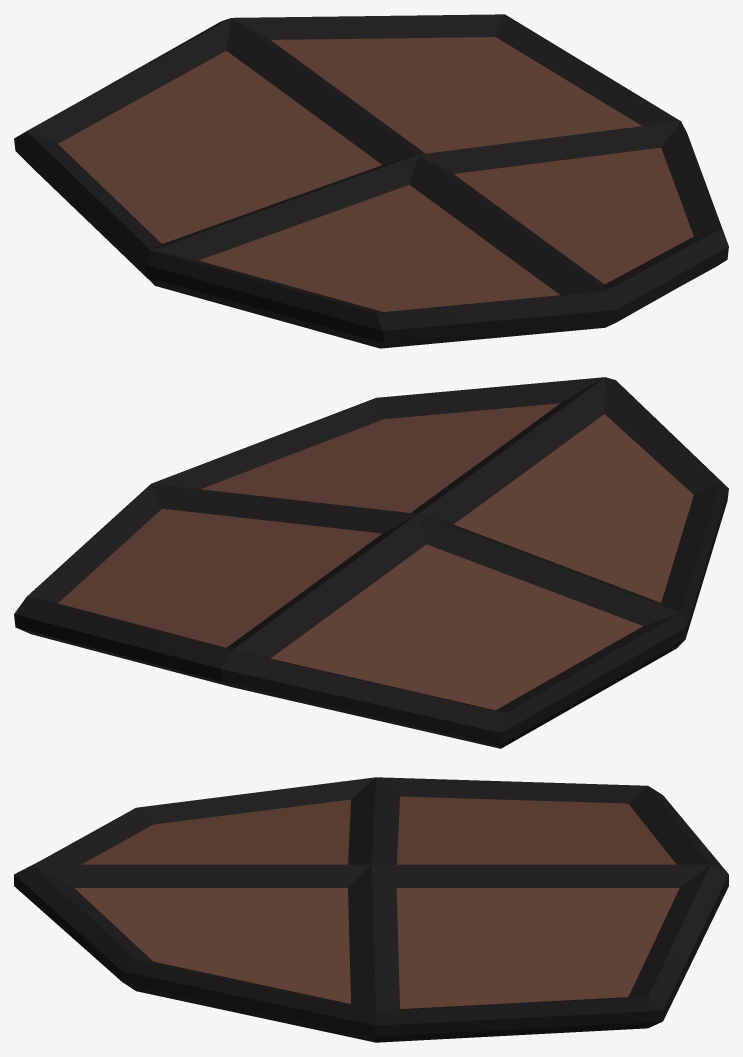
The model's file is shield.fbx.
3 renders of one model, top to bottom at view 1: azimuth 30°, elevation 25°; view 2: azimuth 150°, elevation 25°; view 3: azimuth 270°, elevation 25°, orthographic. The views are drawn at different scales.
Visible parts, largest first — view 1: shield; view 2: shield; view 3: shield.
Part boxes in pixels (x1=…): shield: x1=14, y1=14, x2=728, y2=348; shield: x1=14, y1=377, x2=728, y2=748; shield: x1=14, y1=777, x2=728, y2=1042.
Bounding box in the file's own units: 2372 × 485 × 2993.
